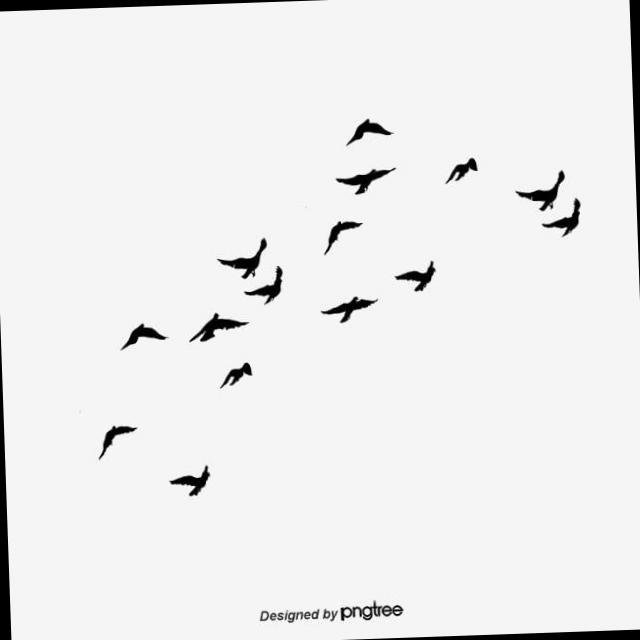bird: (86, 404, 143, 465), (180, 304, 252, 348), (106, 312, 173, 358), (314, 283, 379, 330), (335, 108, 401, 151), (385, 252, 445, 298), (164, 456, 222, 501), (206, 354, 258, 396), (434, 151, 490, 188)
